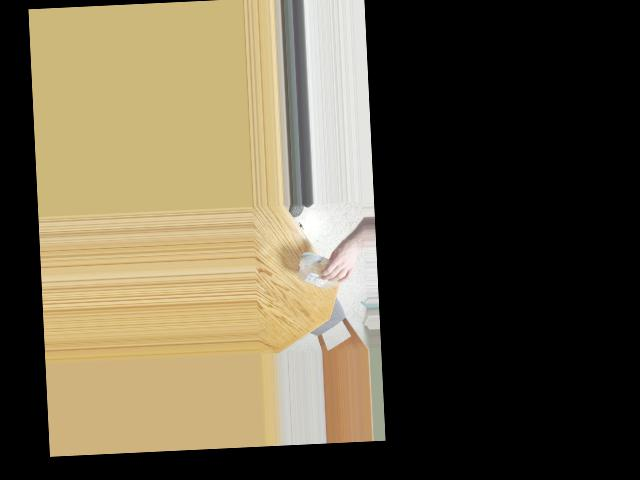cheese: (302, 255, 340, 286)
